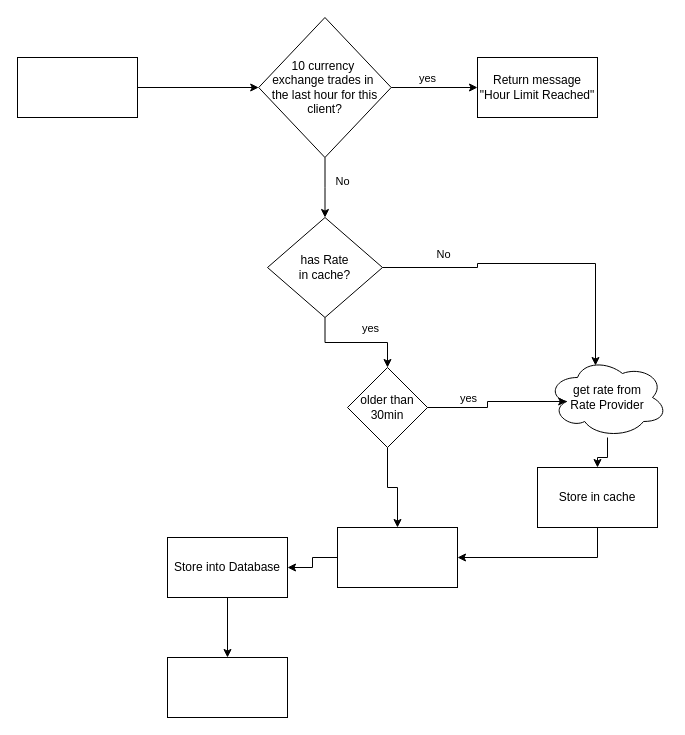
This 685x735 diagram has some shape labels left out. The box of each missing label's shape, as (x1, y1, x2, y2) in pixels:
API: (16, 56, 138, 118)
Calculate Currency Exchange: (336, 526, 458, 588)
Return result: (166, 656, 288, 718)
